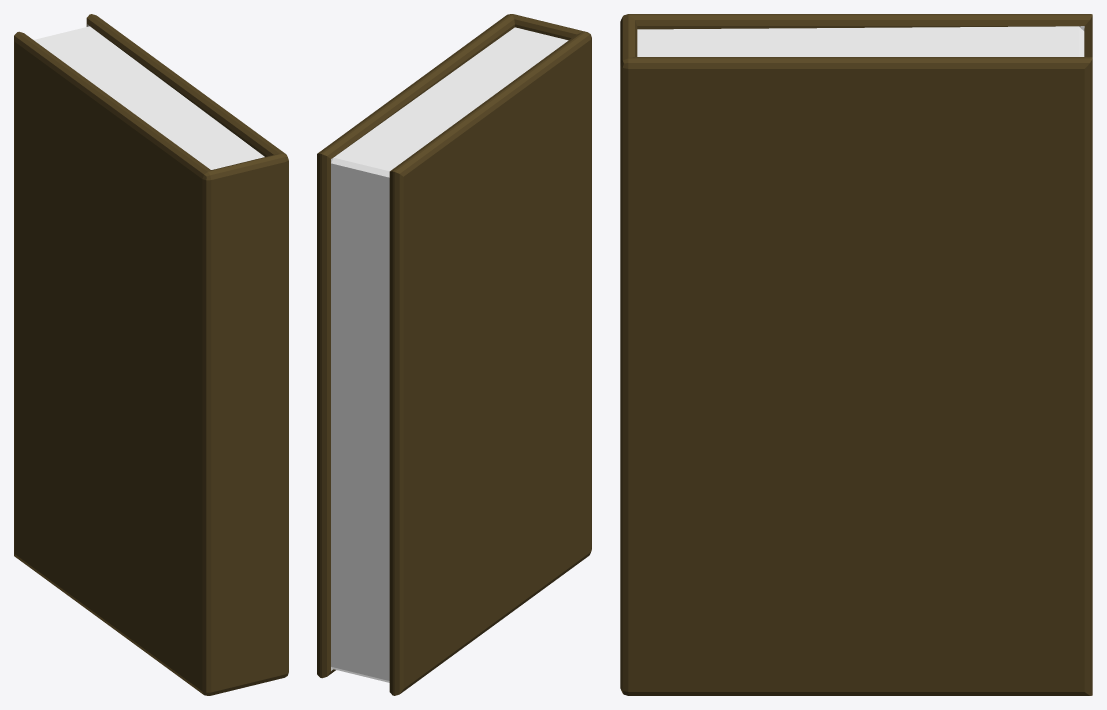
Rendered from Book.fbx.
The picture shows the model from 3 angles, left to right: view 1: azimuth 30°, elevation 25°; view 2: azimuth 150°, elevation 25°; view 3: azimuth 270°, elevation 25°; orthographic projection. The views are drawn at different scales.
Visible parts, largest first — view 1: Cube.001; view 2: Cube.001; view 3: Cube.001.
Part boxes in pixels (<box>): Cube.001: <box>14,14,288,695</box>; Cube.001: <box>317,14,591,695</box>; Cube.001: <box>620,14,1092,695</box>.
Bounding box in the file's own units: 82.79 × 483 × 325.
